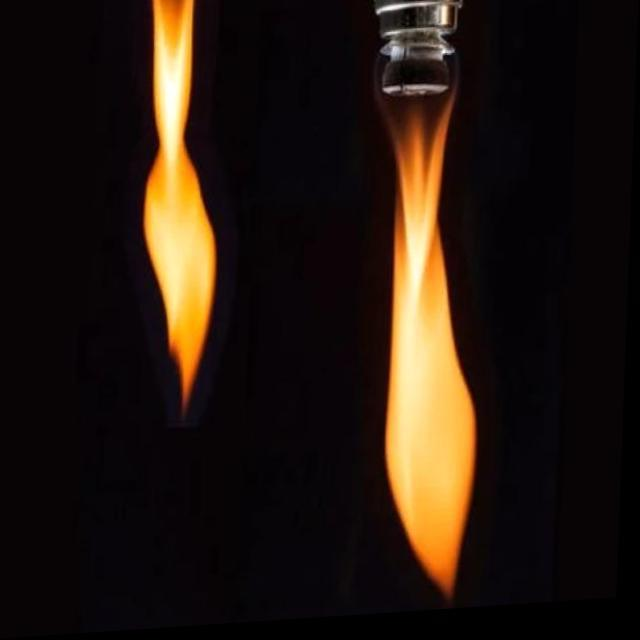fire: (366, 31, 502, 613), (126, 1, 242, 432)
